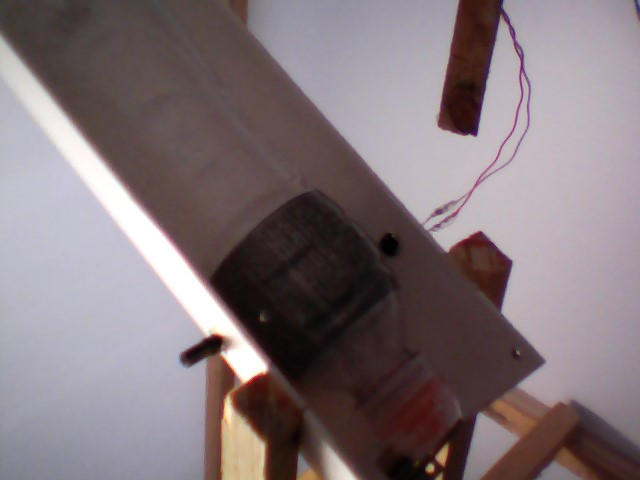plastico: (26, 1, 473, 464)
